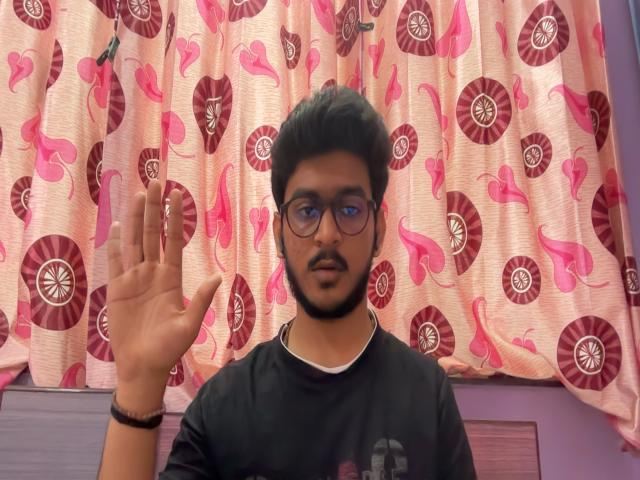Hello: (97, 171, 223, 378)
